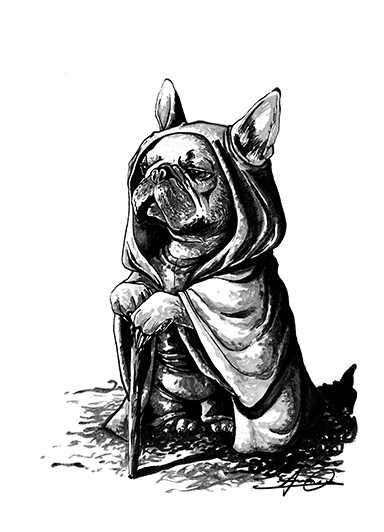dog: (131, 84, 319, 501)
